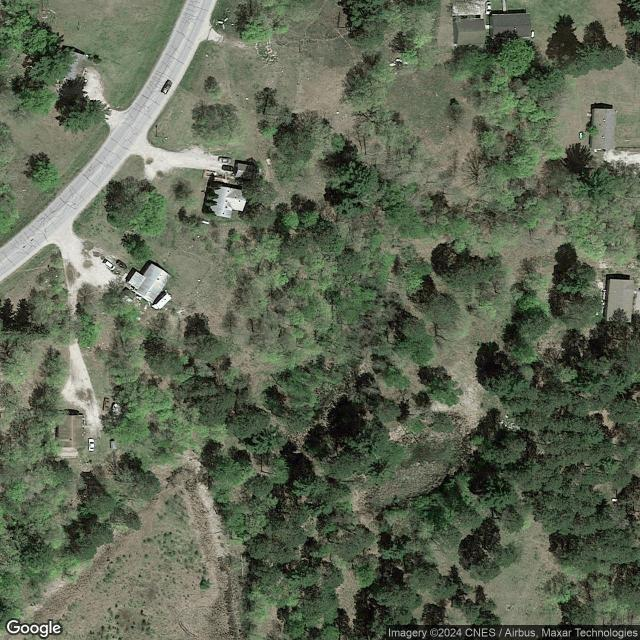Propane: (530, 30, 535, 39), (579, 131, 583, 140)
